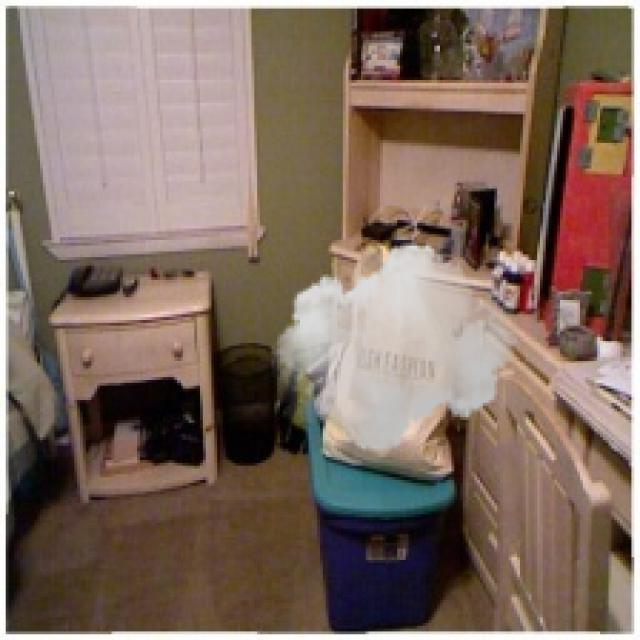Smoke: (271, 235, 520, 460)
